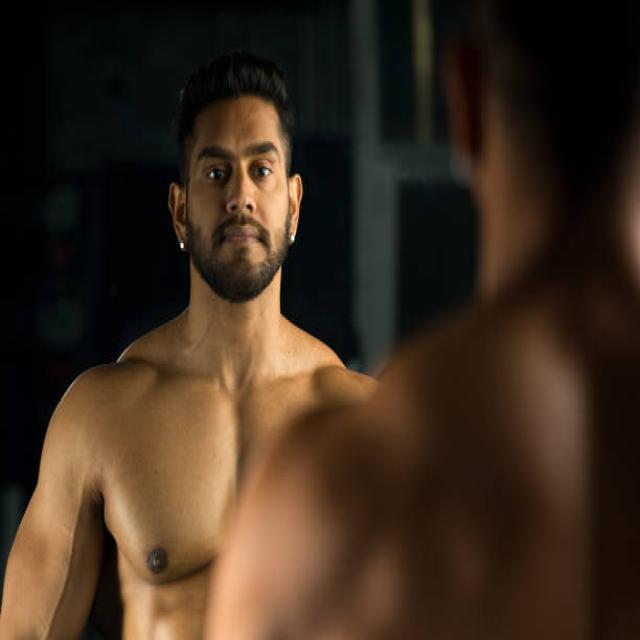no_helmet: (166, 146, 318, 249)
